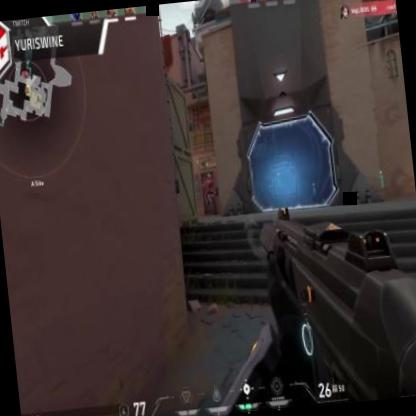enemy: (200, 172, 217, 216)
enemy_head: (206, 173, 210, 181)
